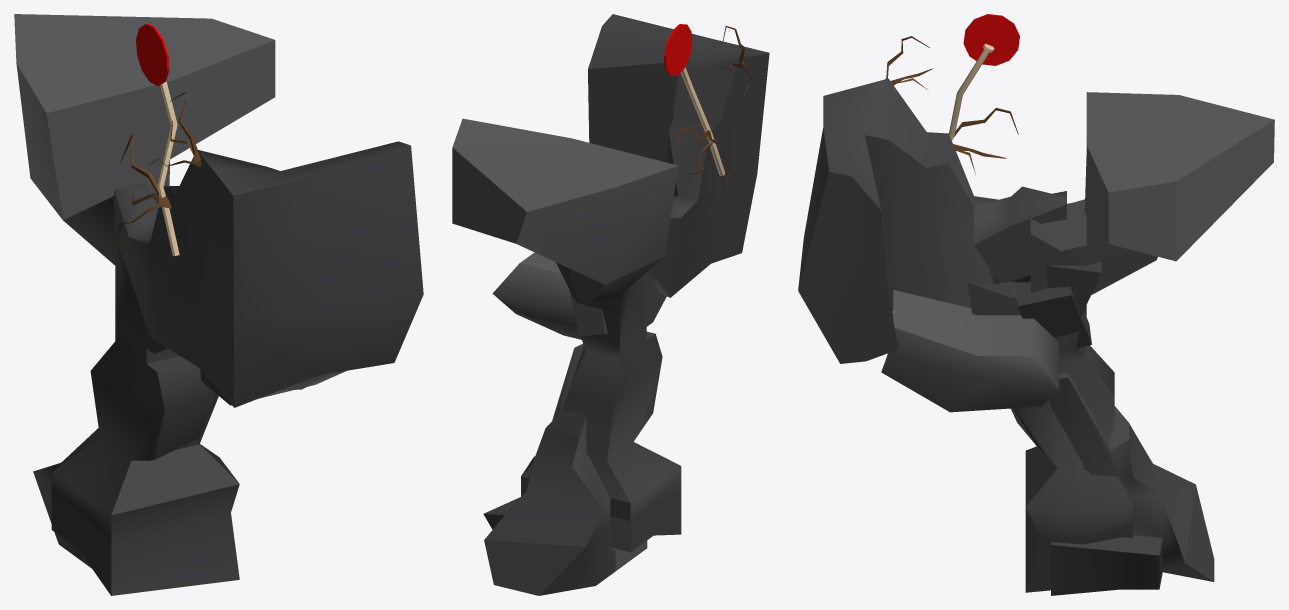
Rendered from Rock3_scenario.fbx.
3 views of the same model, side by side, from view 1: azimuth 30°, elevation 25°; view 2: azimuth 150°, elevation 25°; view 3: azimuth 270°, elevation 25° (orthographic). The views are drawn at different scales.
Parts seen in each view (by area): view 1: polySurface167; view 2: polySurface167; view 3: polySurface167.
Boxes of the visible parts, left/top/right/bottom form: polySurface167: left=14, top=14, right=423, bottom=595; polySurface167: left=452, top=14, right=769, bottom=595; polySurface167: left=798, top=14, right=1274, bottom=595.
Bounding box in the file's own units: 7 × 16.49 × 13.36.
